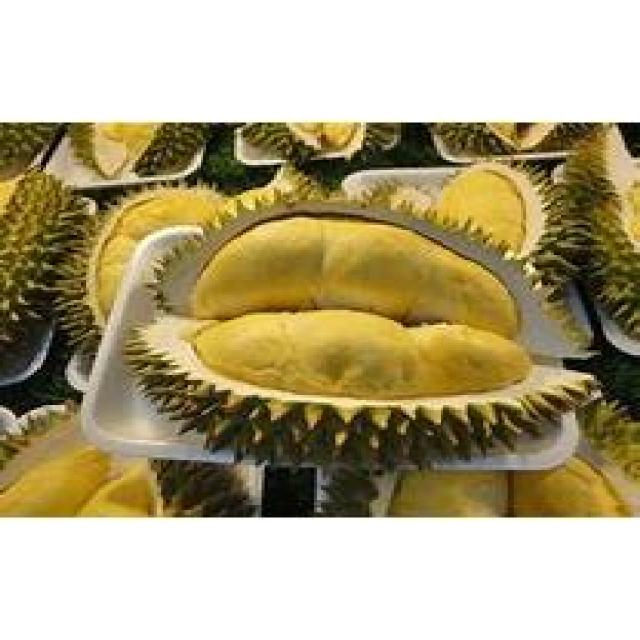fruit: (547, 132, 640, 449), (0, 155, 111, 403)
